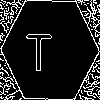T: (25, 25, 53, 71)
